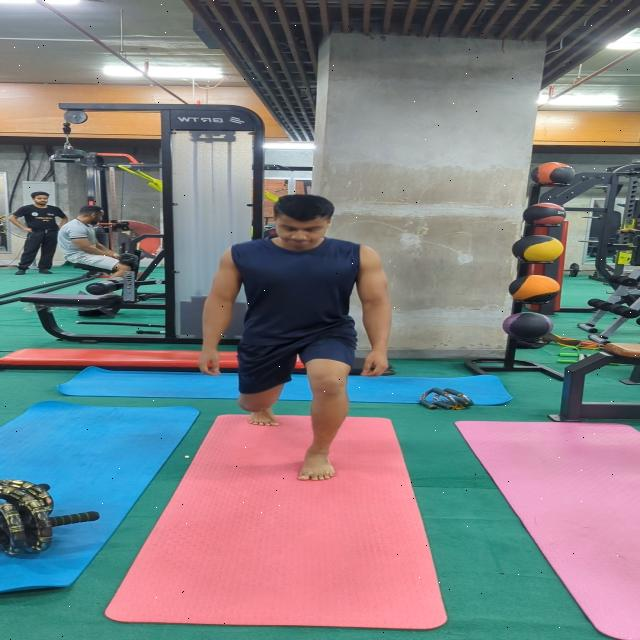Normal_Lunges: (195, 193, 394, 482)
